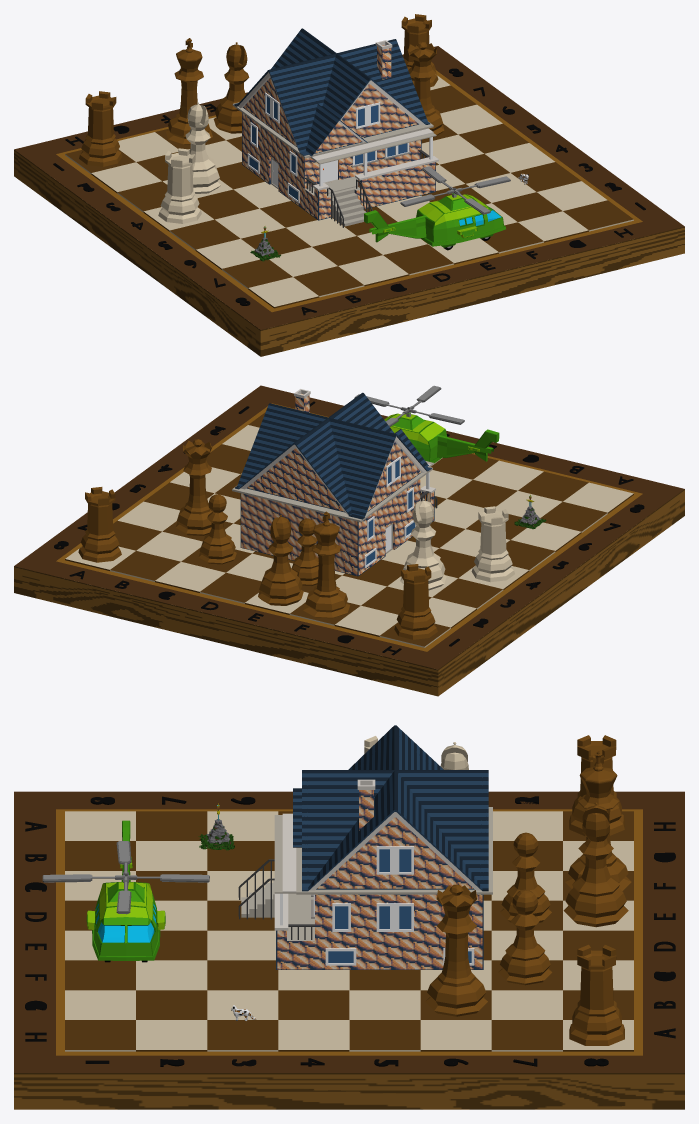
3 renders of one model, top to bottom at view 1: azimuth 30°, elevation 25°; view 2: azimuth 150°, elevation 25°; view 3: azimuth 270°, elevation 25°, orthographic. The views are drawn at different scales.
Visible parts, largest first — view 1: Cube.002, Cube.430, VEHICLES_HELICOPTER; view 2: Cube.002, Cube.430, VEHICLES_HELICOPTER; view 3: Cube.002, Cube.430, VEHICLES_HELICOPTER, OBJRANDOM_SWORD_IN_THE_STONE.
Part boxes in pixels (box(x1,y1,x2,y2)): Cube.002: box(14, 14, 684, 356); Cube.430: box(232, 28, 438, 227); VEHICLES_HELICOPTER: box(364, 166, 510, 250); Cube.002: box(14, 385, 684, 696); Cube.430: box(232, 389, 437, 576); VEHICLES_HELICOPTER: box(354, 385, 499, 463); Cube.002: box(14, 735, 684, 1109); Cube.430: box(238, 725, 492, 969); VEHICLES_HELICOPTER: box(42, 820, 209, 962); OBJRANDOM_SWORD_IN_THE_STONE: box(198, 803, 234, 850).
Size of the model in its own units: 3981 by 1434 by 4012.
41 materials, 4 textured.
